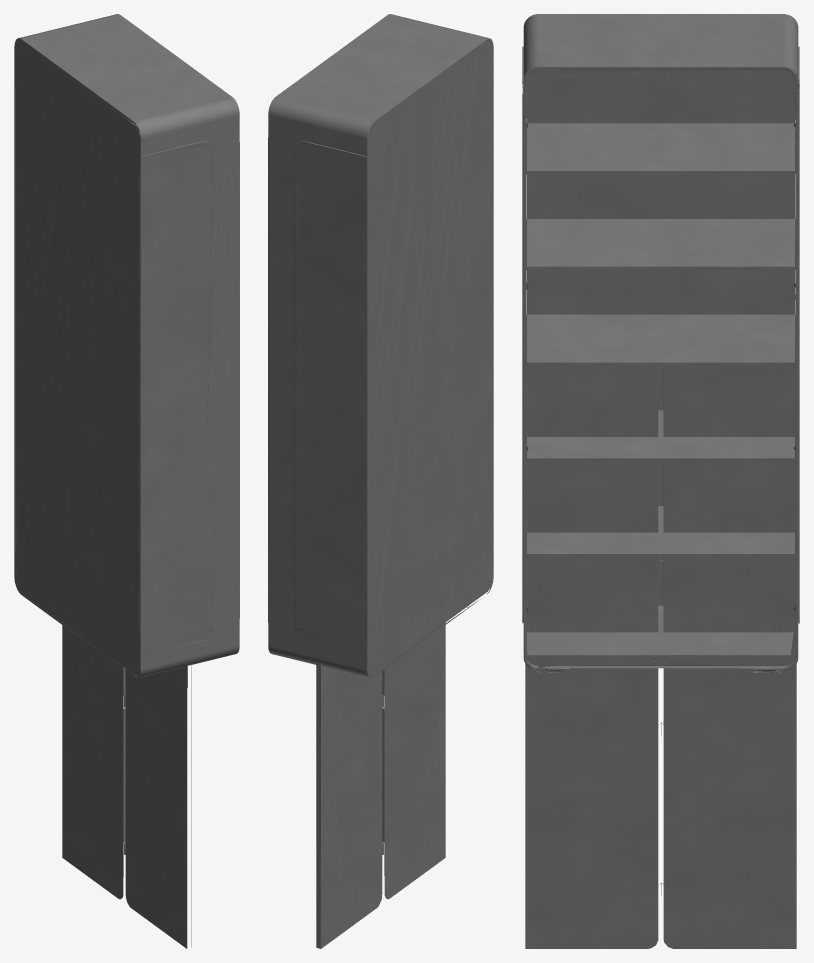
Rendered from cabinet_file_a04.glb.
The picture shows the model from 3 angles, left to right: view 1: azimuth 30°, elevation 25°; view 2: azimuth 150°, elevation 25°; view 3: azimuth 270°, elevation 25°; orthographic projection. The views are drawn at different scales.
Parts seen in each view (by area): view 1: geometry_0; view 2: geometry_0; view 3: geometry_0.
Part boxes in pixels (box(x1,y1,x2,y2)): geometry_0: box(14, 14, 239, 948); geometry_0: box(268, 14, 493, 948); geometry_0: box(522, 14, 799, 948).
Bounding box in the file's own units: 0.0526 × 0.42 × 0.1163.
1 material, 1 textured.
